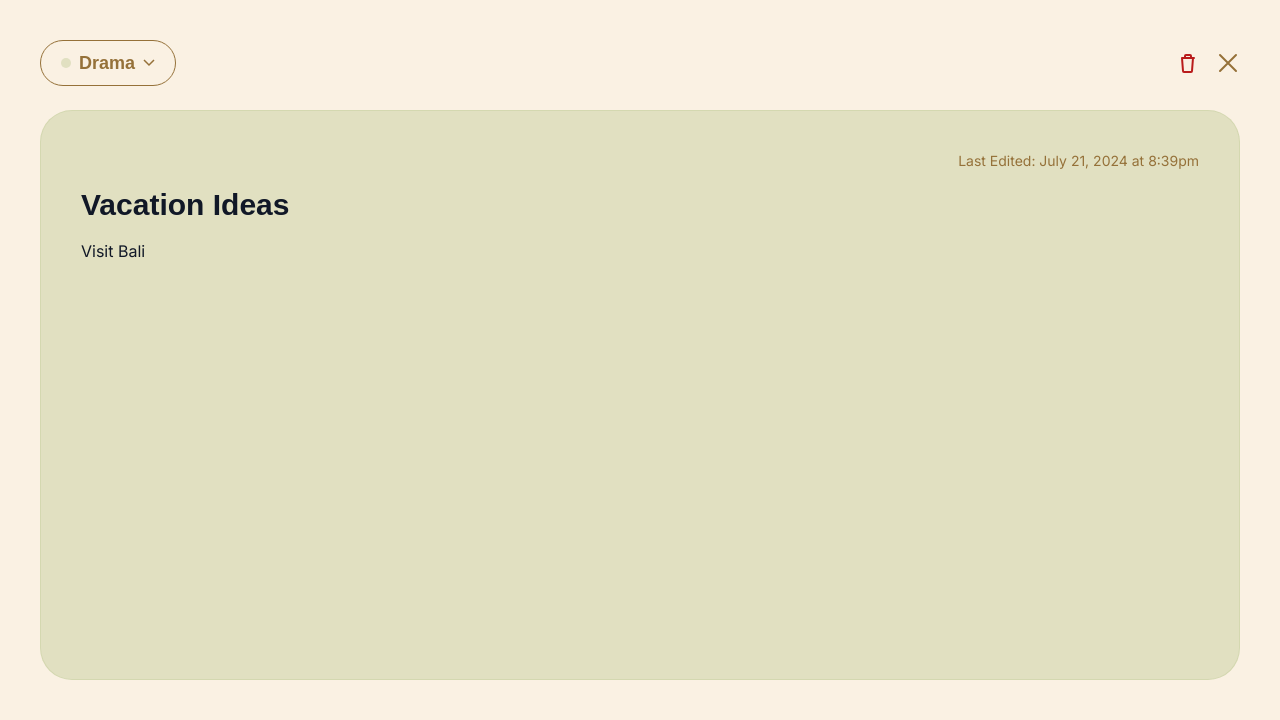
Test: NoteEditor › shows an error and stays open when deletion fails
The image size is (1280, 720).
Click the button with test id "note-delete-button" at (1188, 63), box left=1176, top=51, right=1200, bottom=75
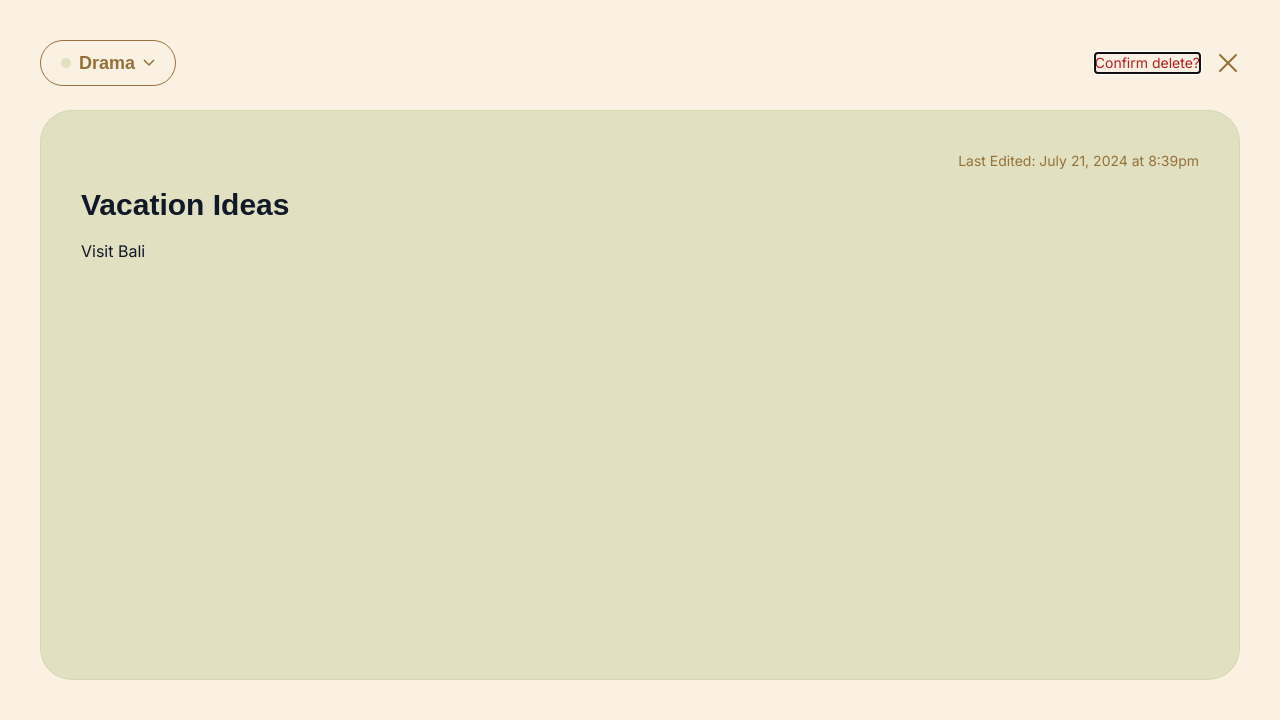
Click the button with test id "note-delete-button" at (1147, 63), box left=1095, top=53, right=1200, bottom=73
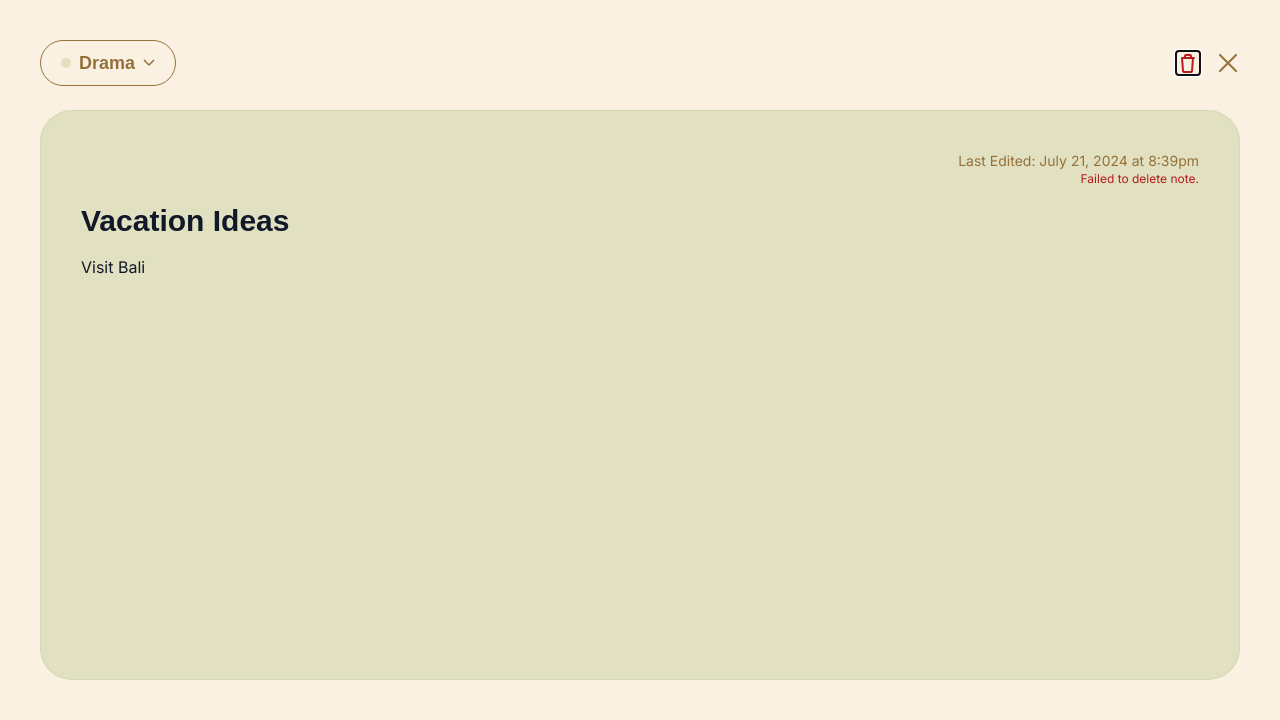
Now the message with test id "note-editor-error" reads "Failed to delete note.", box left=1081, top=171, right=1199, bottom=186
